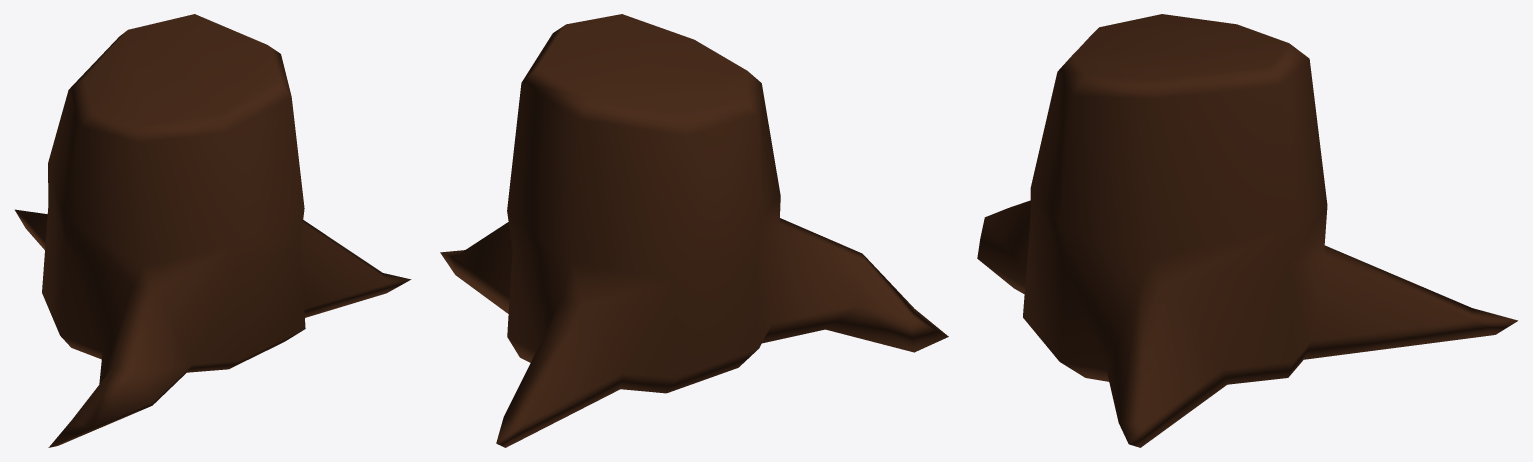
The model's file is SM_Stump_01.fbx.
3 renders of one model, left to right at view 1: azimuth 30°, elevation 25°; view 2: azimuth 150°, elevation 25°; view 3: azimuth 270°, elevation 25°, orthographic. The views are drawn at different scales.
Visible parts, largest first — view 1: stump; view 2: stump; view 3: stump.
Part boxes in pixels (box(x1,y1,x2,y2)): stump: box(15, 14, 411, 447); stump: box(440, 14, 948, 447); stump: box(977, 14, 1517, 447).
Size of the model in its own units: 187 by 183 by 126.
